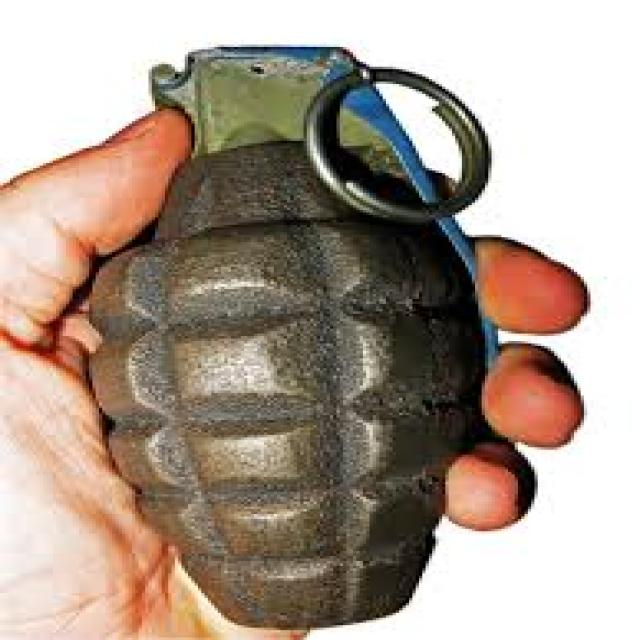grenade: (71, 25, 520, 639)
